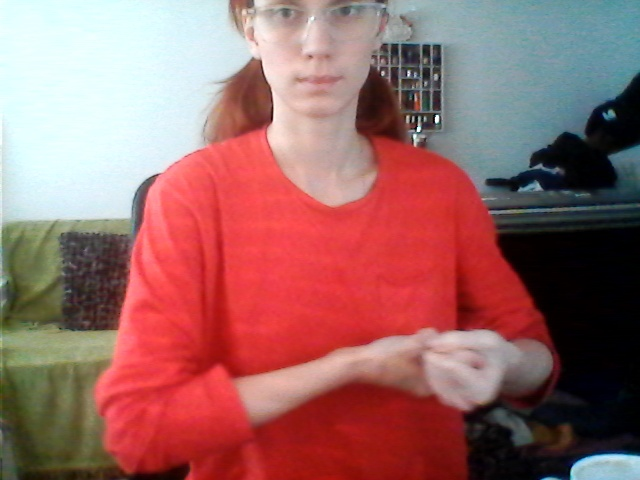hasic: (341, 301, 529, 427)
